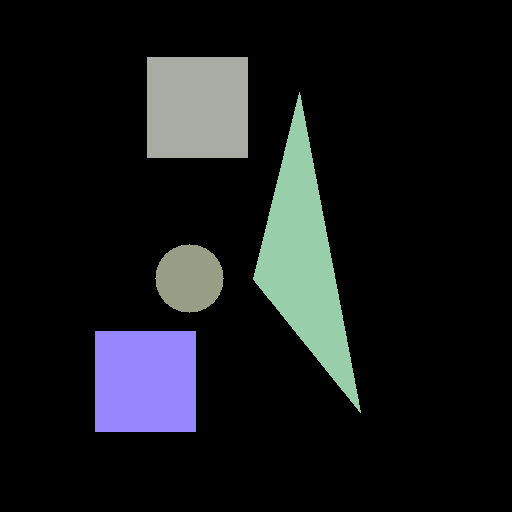circle: (155, 244, 223, 312)
square: (95, 331, 195, 431), (147, 57, 247, 157)
triangle: (253, 92, 360, 412)
